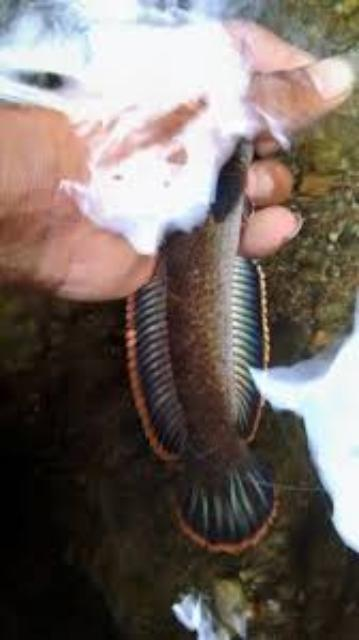Sirip Anal: (228, 248, 278, 446)
Sirip Dada: (211, 146, 249, 232)
Sirip Ekor: (166, 438, 290, 564)
Sirip Punggung: (116, 276, 192, 462)
